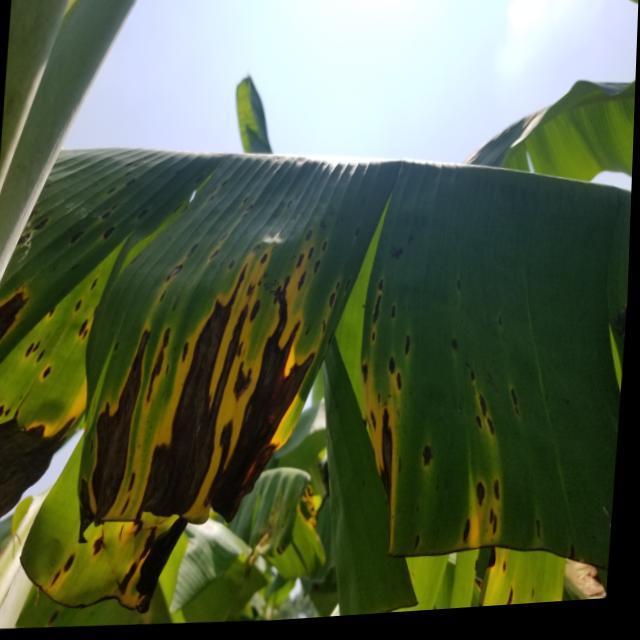Early_rust: (0, 126, 640, 633)
